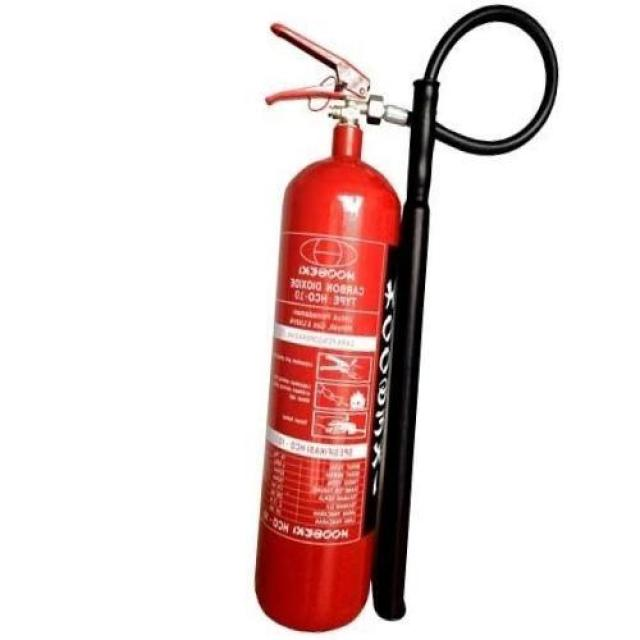fire_extinguisher: (243, 1, 562, 639)
